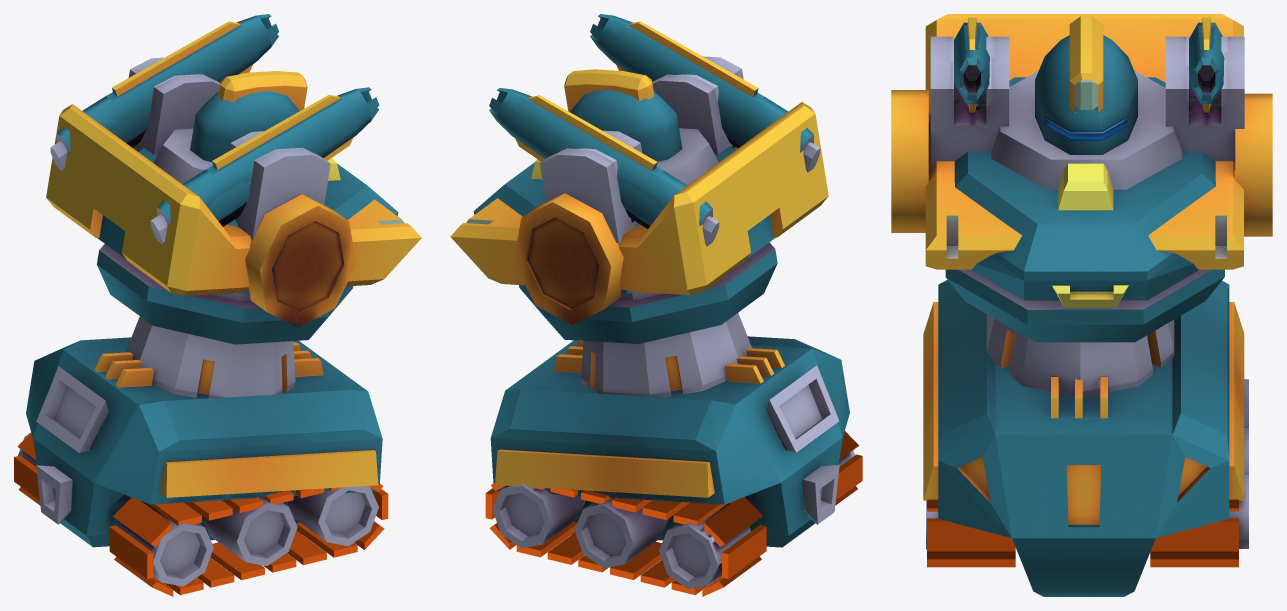
The model's file is Player_Move2.obj.
The picture shows the model from 3 angles, left to right: view 1: azimuth 30°, elevation 25°; view 2: azimuth 150°, elevation 25°; view 3: azimuth 270°, elevation 25°; orthographic projection. The views are drawn at different scales.
Parts seen in each view (by area): view 1: Object004, Object014, Box009, Box017, Box016; view 2: Object004, Object014, Box009, Box016, Box017; view 3: Object004, Object014, Box017, Box016, Box009.
Boxes of the visible parts, x1,y1,x2,y2 form: Object004: (26,57,421,547); Object014: (50,14,379,244); Box009: (18,432,378,586); Box017: (109,482,388,596); Box016: (14,433,89,505); Object004: (450,56,849,547); Object014: (489,14,820,246); Box009: (492,450,854,588); Box016: (485,482,766,596); Box017: (835,431,862,505); Object004: (891,14,1272,596); Object014: (954,17,1224,112); Box017: (927,499,1015,567); Box016: (1150,499,1238,567); Box009: (926,379,1248,549).
Size of the model in its own units: 60.24 by 82.68 by 52.49.
